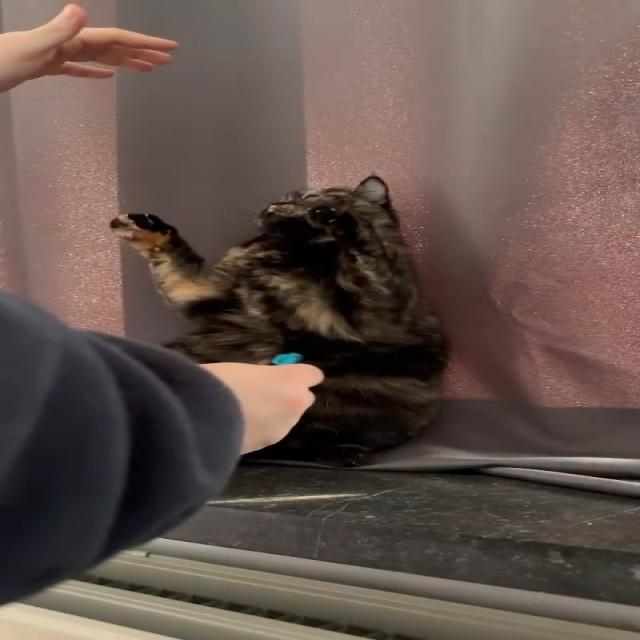authorized: (108, 174, 452, 468)
